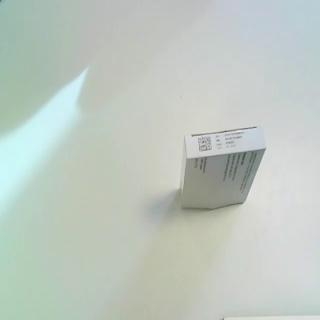dolcontin10mg: (177, 122, 269, 214)
